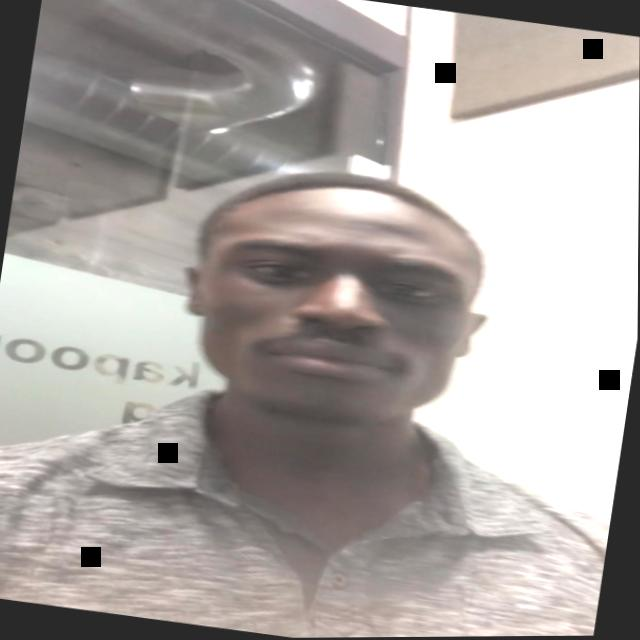NO-Mask: (179, 200, 485, 442)
